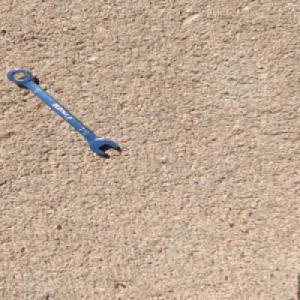Wrench: (6, 68, 119, 156)
